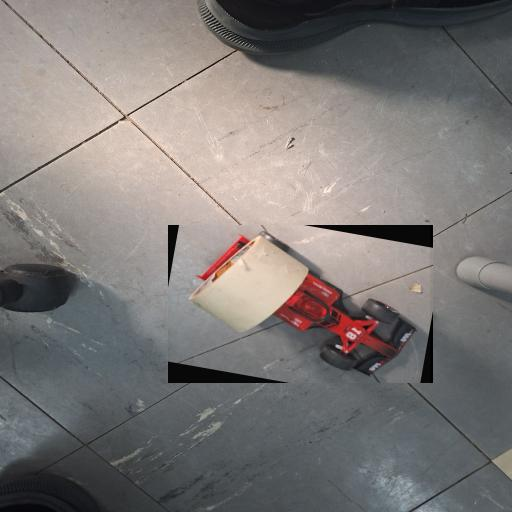carro: (168, 225, 430, 383)
